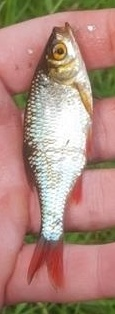Scardinius erythrophthalmus: (20, 20, 95, 294)
